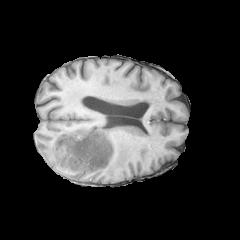glioma: (43, 126, 129, 179)
